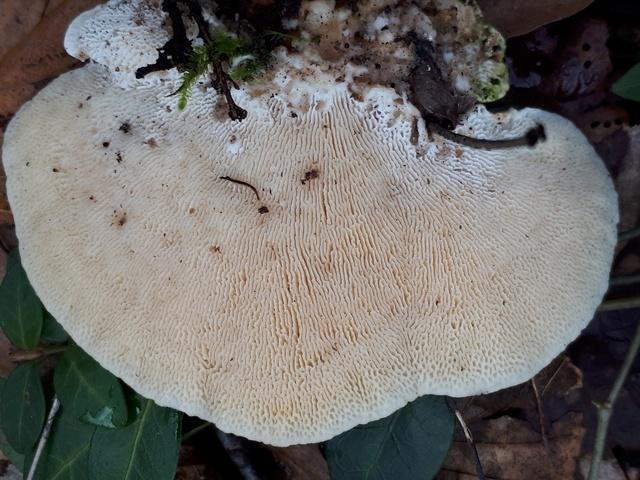Non-edible Mushroom: (1, 0, 621, 448)
